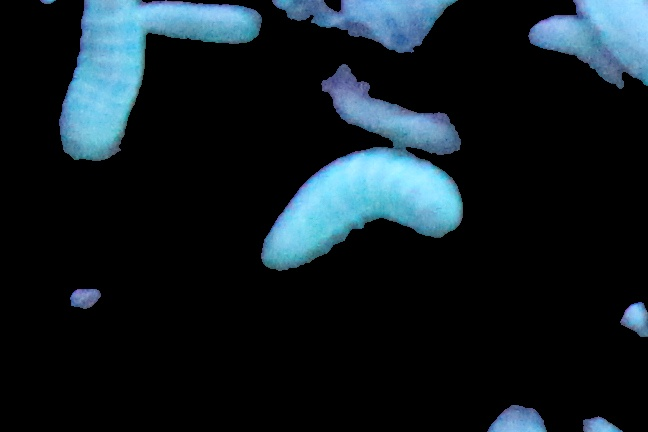larvae: (265, 147, 467, 275), (54, 1, 145, 159), (528, 12, 625, 86), (140, 3, 266, 48)
